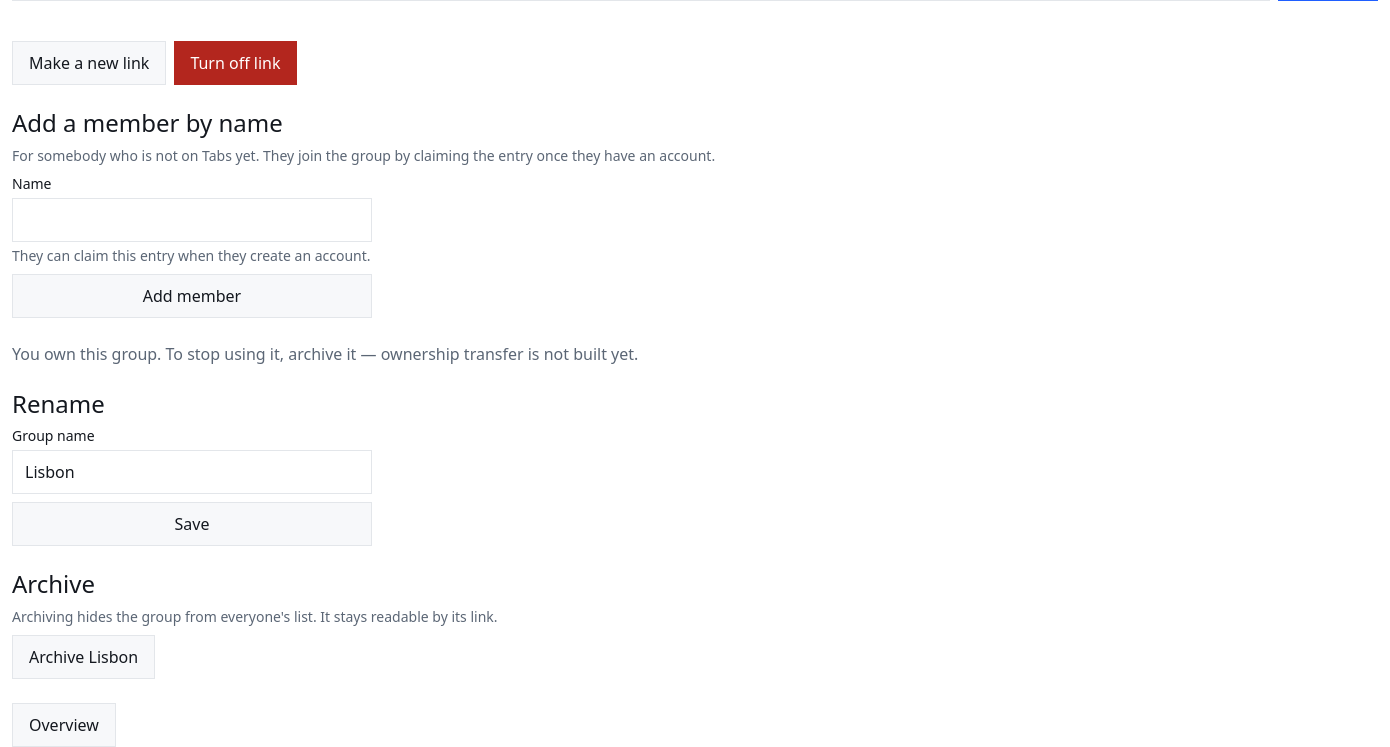
it: the members screen › announces a finished archive instead of claiming to still be working
The width and height of the screenshot is (1390, 747).
(page scrolled)
Click the button "Archive Lisbon" at (84, 657), box [12,635,155,679]
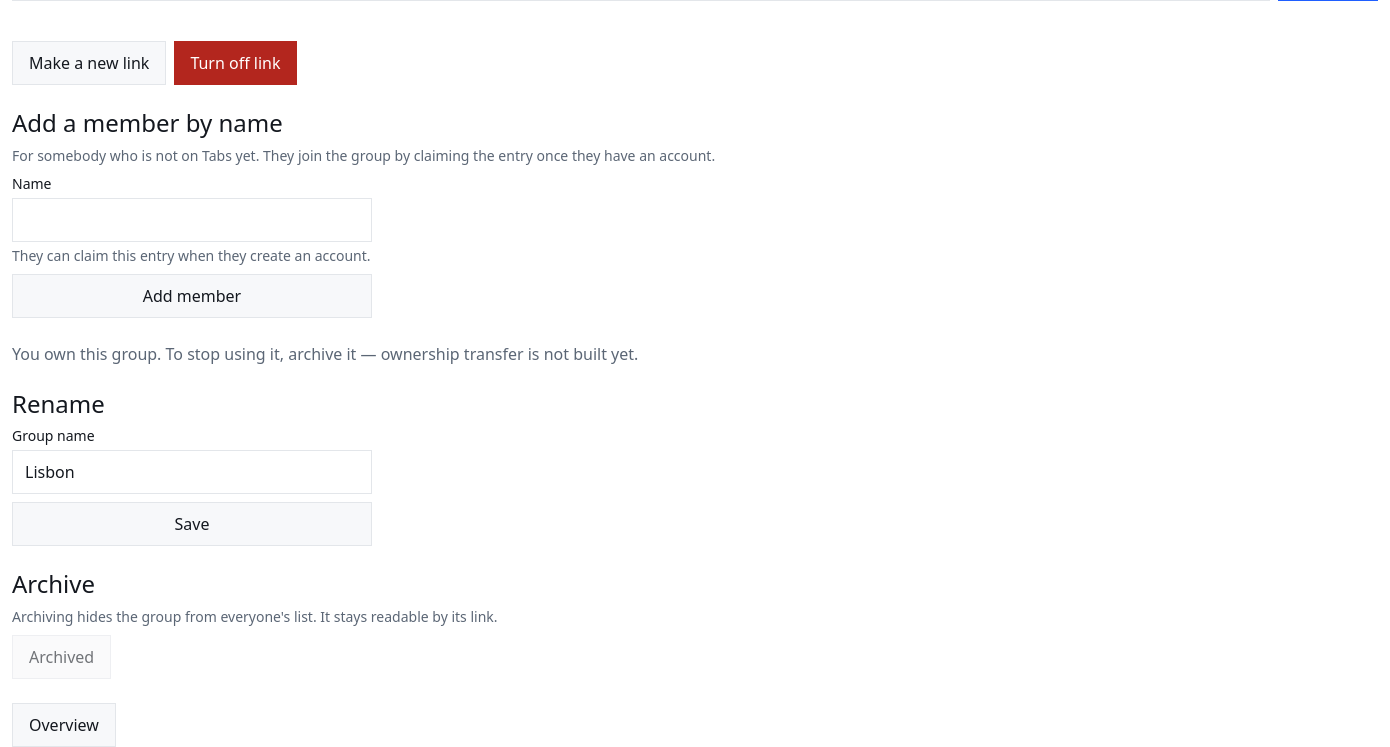
Check: the button "Archived" is shown, box [12,635,111,679]
